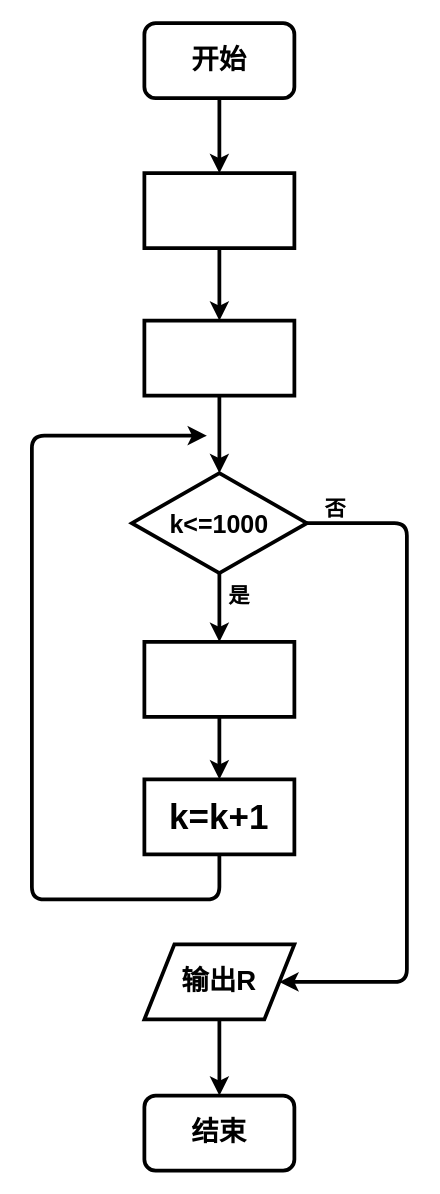
Image size: 440x1194. Some labels were removed from this diagram. Each missing label, with the box of its shape:
k =1: (142, 318, 296, 397)
r =r/k: (142, 639, 296, 718)
r=1: (142, 171, 296, 249)
